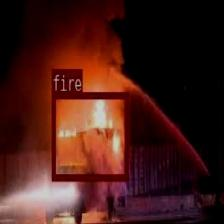fire: (51, 91, 127, 180)
